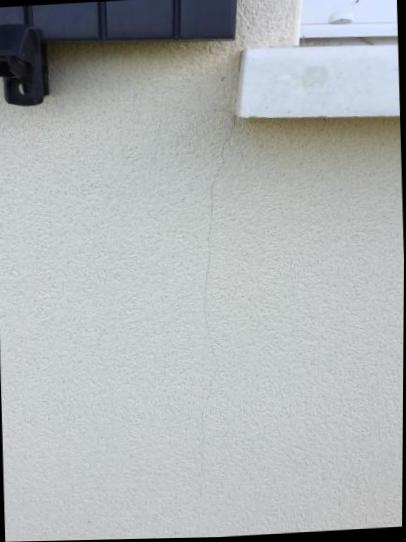crack: (202, 118, 236, 421)
